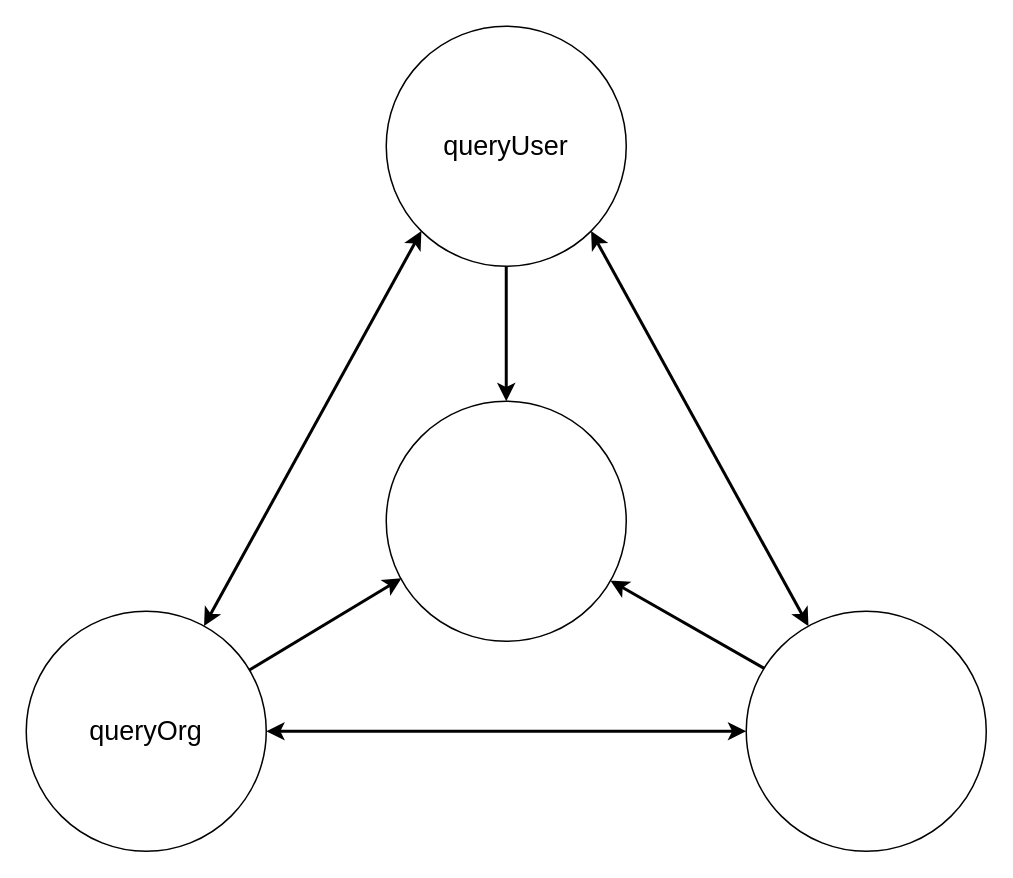
Some shapes in this 1013 by 878 pixel diagram are drawn without their labels. The shapes that lost their labels are listed below. From the top down, each one's box as (x1, y1, x2, y2) in pixels, then its label:
(385, 400, 626, 641): queryMeetingList
(745, 610, 986, 851): onHtmlLoaded
